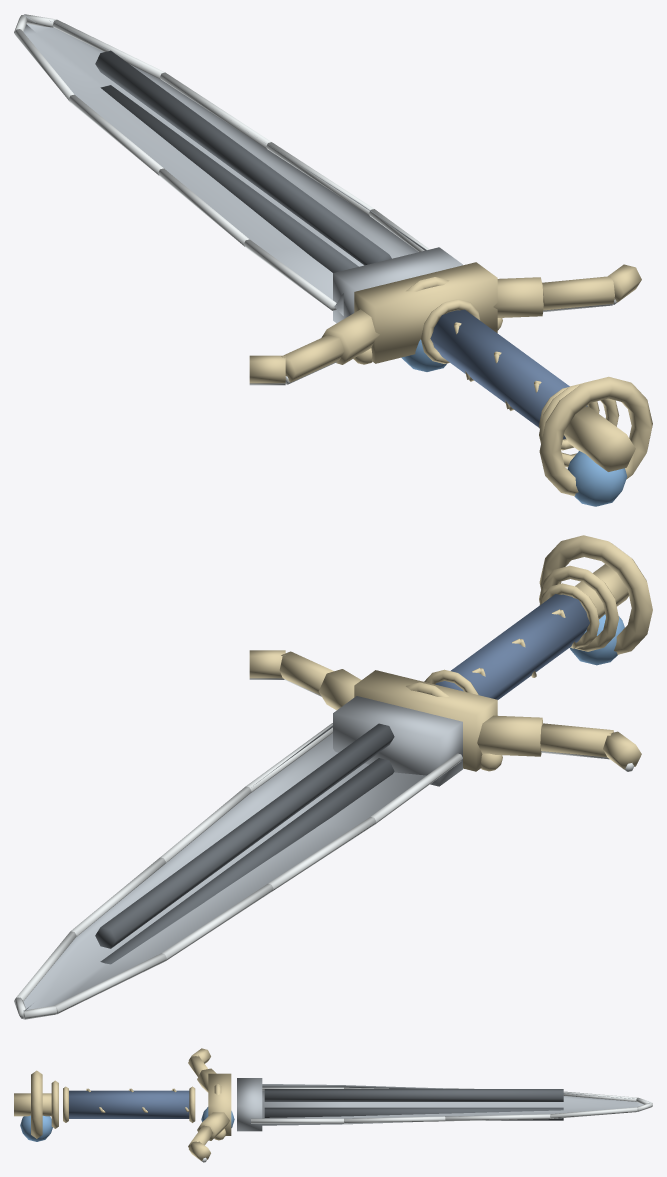
3 views of the same model, one above another, from view 1: azimuth 30°, elevation 25°; view 2: azimuth 150°, elevation 25°; view 3: azimuth 270°, elevation 25° (orthographic). The views are drawn at different scales.
Parts seen in each view (by area): view 1: gold, steel, black, edge, wrap, gem; view 2: steel, gold, black, edge, wrap, gem; view 3: black, steel, gold, wrap, edge, gem.
Boxes of the visible parts, box(x1,y1,x2,y2) form: gold: box(249, 262, 652, 496); steel: box(23, 14, 462, 323); black: box(95, 50, 564, 435); edge: box(14, 14, 617, 385); wrap: box(430, 309, 587, 439); gem: box(401, 339, 627, 506); steel: box(23, 696, 462, 1019); gold: box(249, 535, 652, 771); black: box(95, 723, 394, 964); edge: box(14, 678, 634, 1019); wrap: box(435, 594, 589, 699); gem: box(570, 614, 624, 665); black: box(264, 1089, 563, 1120); steel: box(237, 1078, 650, 1131); gold: box(14, 1048, 231, 1161); wrap: box(69, 1090, 189, 1118); edge: box(202, 1087, 652, 1162); gem: box(20, 1107, 234, 1141).
Bounding box in the file's own units: 2.77 × 0.84 × 7.27.
